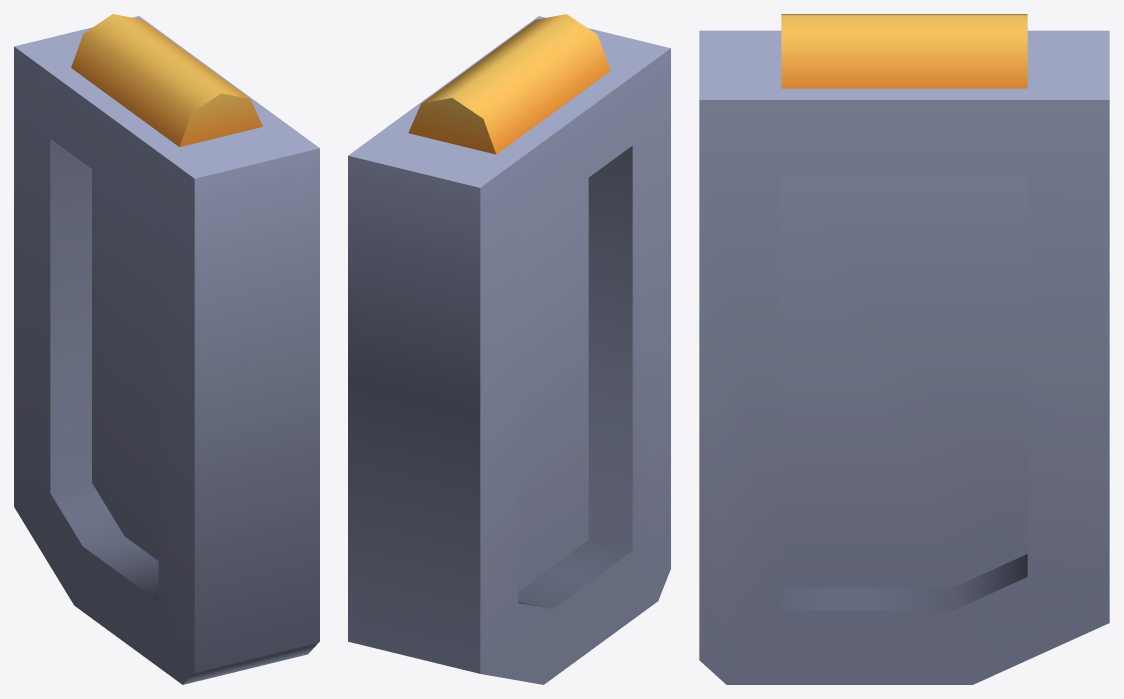
File: clip-large.glb
3 renders of one model, left to right at view 1: azimuth 30°, elevation 25°; view 2: azimuth 150°, elevation 25°; view 3: azimuth 270°, elevation 25°, orthographic. The views are drawn at different scales.
Visible parts, largest first — view 1: clip-large; view 2: clip-large; view 3: clip-large.
Boxes of the visible parts, bbox=[...] form: clip-large: bbox=[14, 14, 319, 684]; clip-large: bbox=[348, 14, 670, 684]; clip-large: bbox=[699, 14, 1109, 684].
Bounding box in the file's own units: 0.06 × 0.2558 × 0.15.
1 material, 1 textured.
